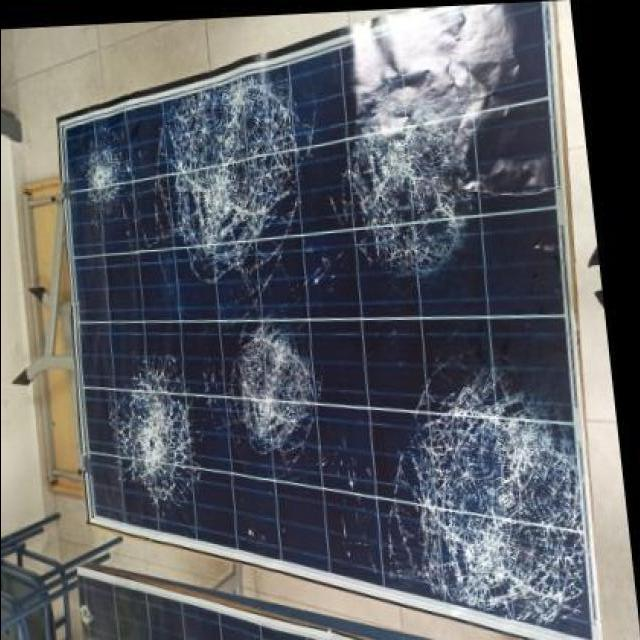cracked: (52, 6, 600, 639)
